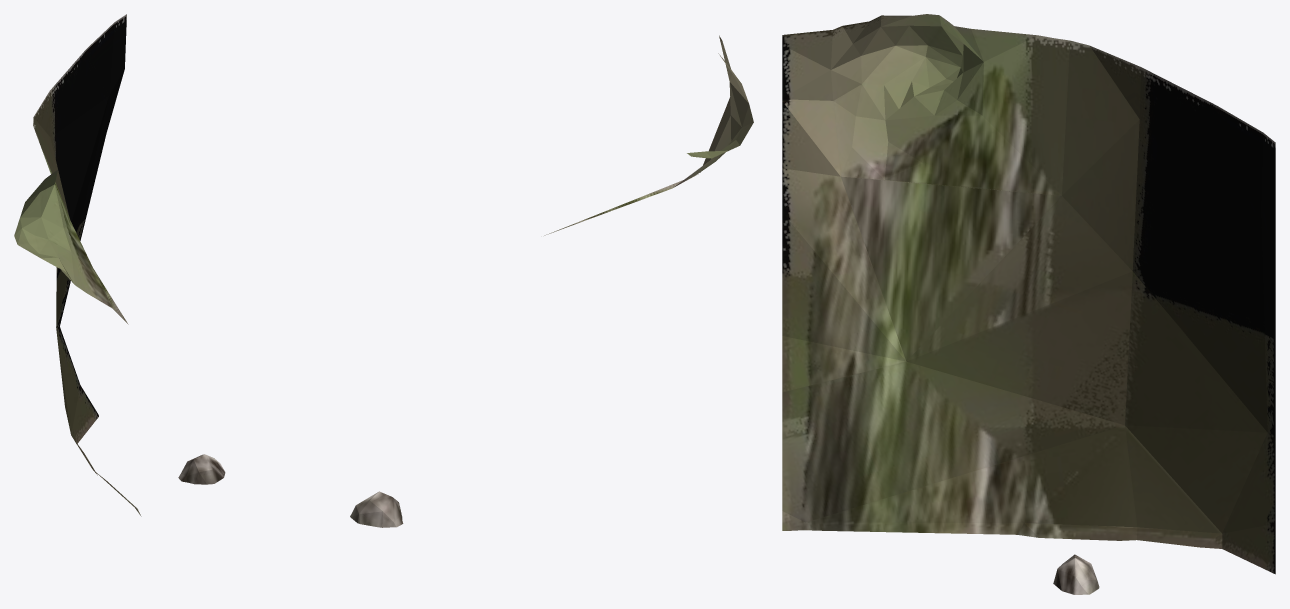
3 renders of one model, left to right at view 1: azimuth 30°, elevation 25°; view 2: azimuth 150°, elevation 25°; view 3: azimuth 270°, elevation 25°, orthographic. The views are drawn at different scales.
Size of the model in its own units: 4.31 by 5.9 by 5.9.
3 materials, 3 textured.
